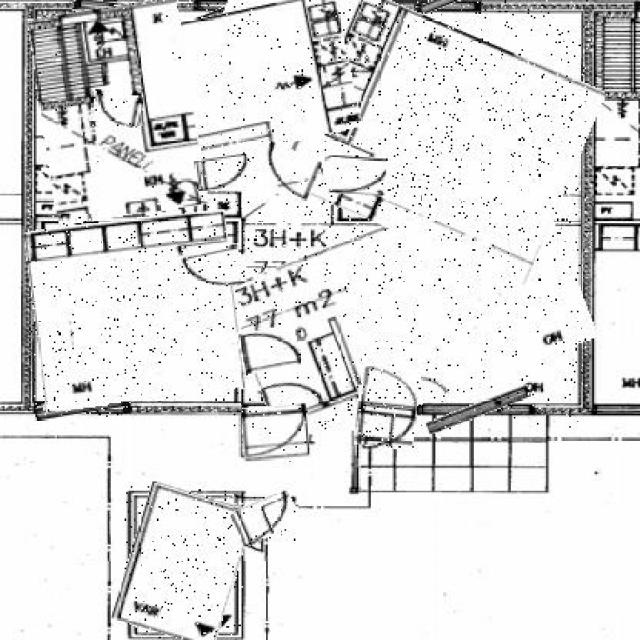door: (357, 366, 418, 448), (243, 404, 308, 462), (258, 146, 318, 197), (234, 496, 298, 542), (182, 248, 243, 292), (238, 328, 298, 372), (325, 156, 386, 196), (196, 156, 250, 190), (92, 91, 143, 126)
window: (425, 396, 532, 426), (37, 398, 129, 417), (384, 0, 472, 18), (196, 0, 286, 17), (74, 0, 117, 11)
zone: (183, 0, 592, 251), (232, 196, 588, 430), (31, 216, 240, 407), (37, 2, 203, 222), (141, 0, 356, 158), (120, 486, 243, 640)
